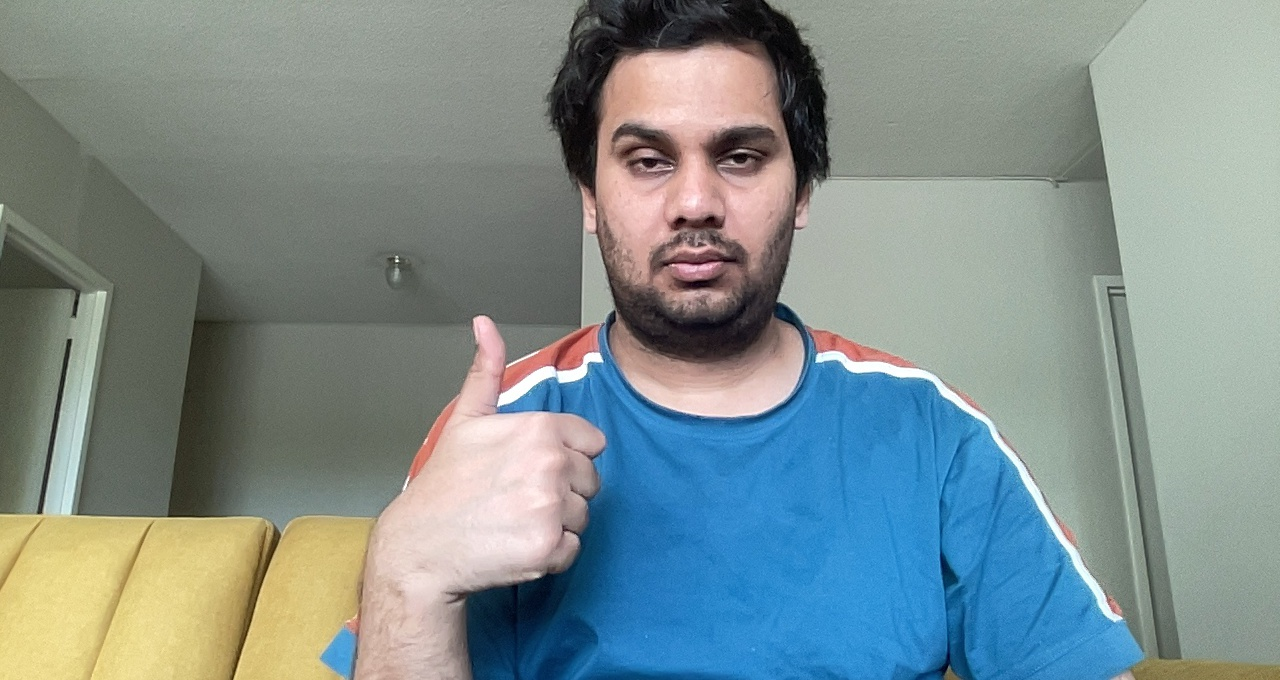thumbsup: (397, 310, 616, 581)
